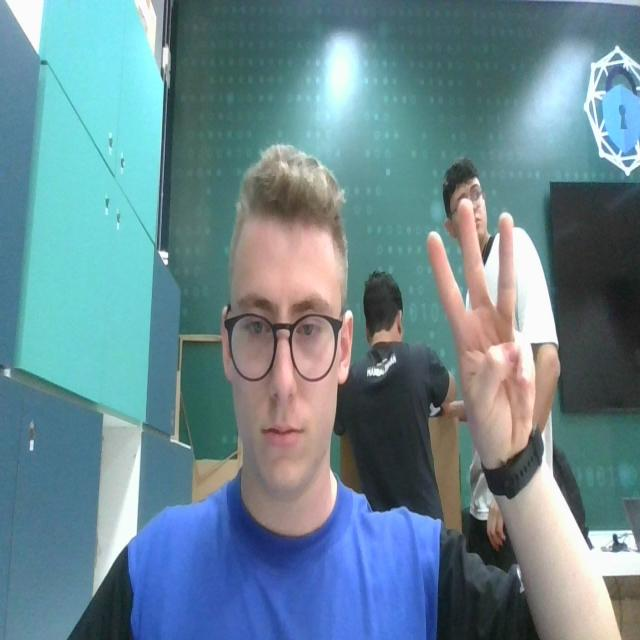W: (425, 192, 542, 452)
